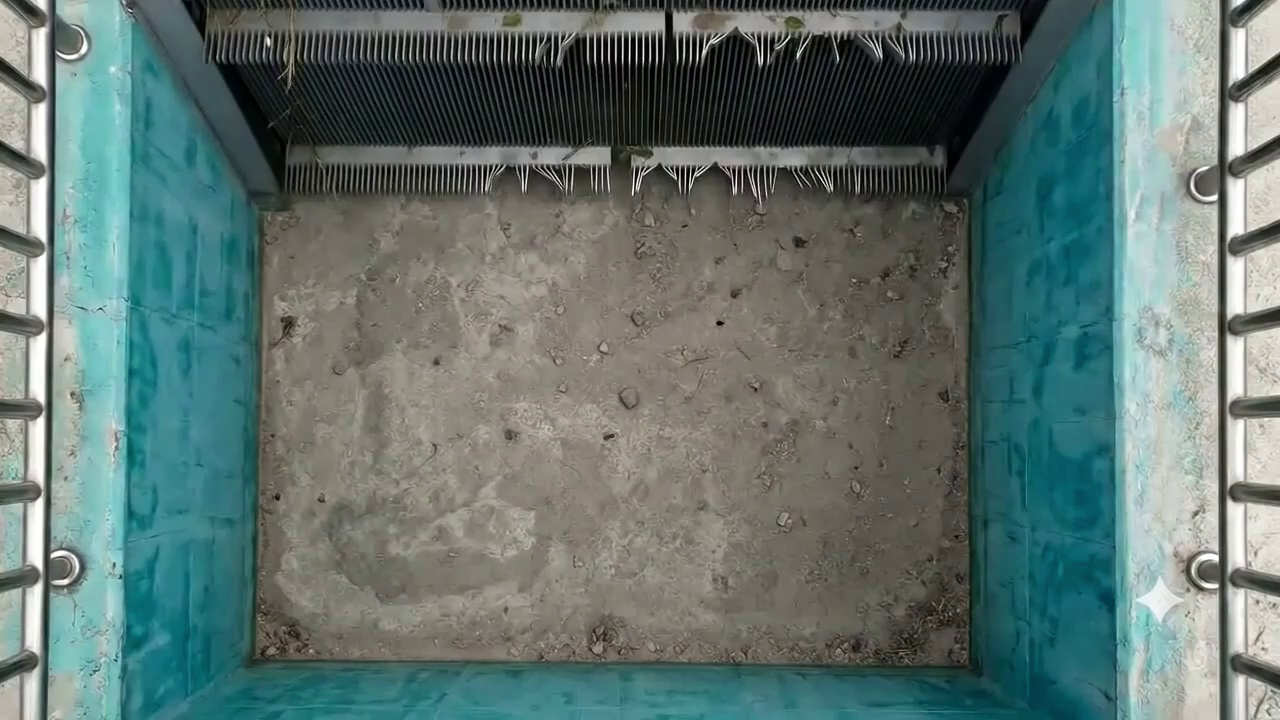damage: (478, 155, 859, 206), (698, 28, 942, 71), (510, 24, 602, 70)
